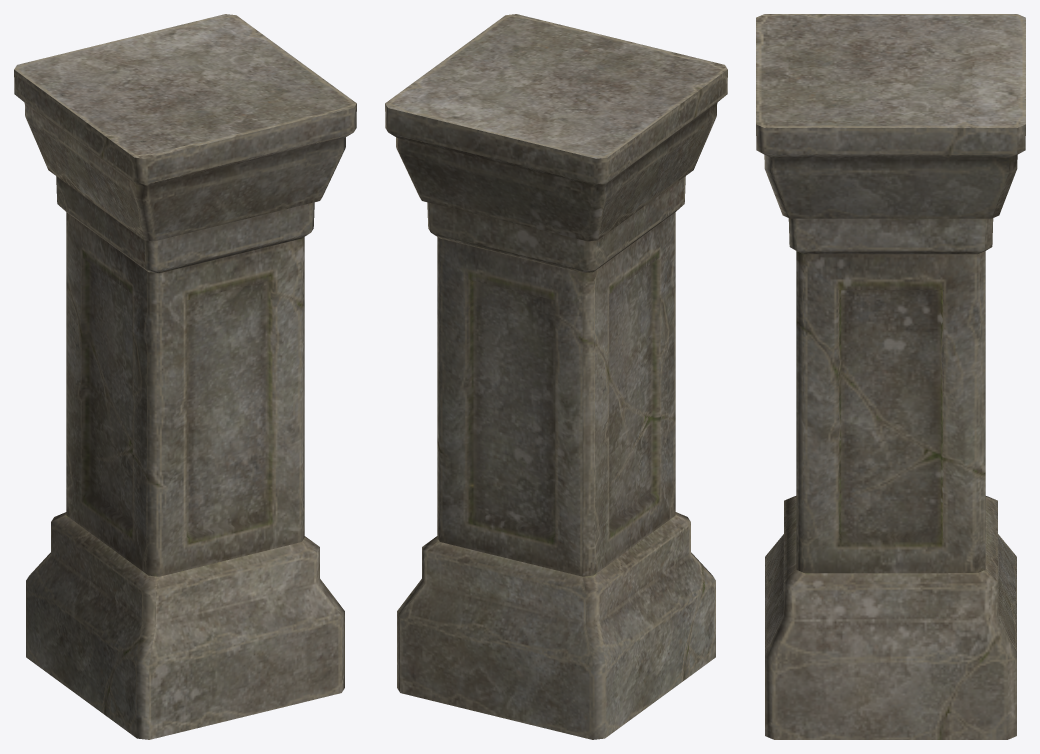
File: SM_Pier_02.fbx
3 renders of one model, left to right at view 1: azimuth 30°, elevation 25°; view 2: azimuth 150°, elevation 25°; view 3: azimuth 270°, elevation 25°, orthographic. The views are drawn at different scales.
Visible parts, largest first — view 1: SM_Pier_02_LOD0; view 2: SM_Pier_02_LOD0; view 3: SM_Pier_02_LOD0.
Part boxes in pixels (x1=…): SM_Pier_02_LOD0: x1=14, y1=14, x2=356, y2=739; SM_Pier_02_LOD0: x1=385, y1=14, x2=727, y2=739; SM_Pier_02_LOD0: x1=756, y1=14, x2=1025, y2=739.
Size of what is drawn, in the model's own units: 48.26 by 122 by 48.26.
